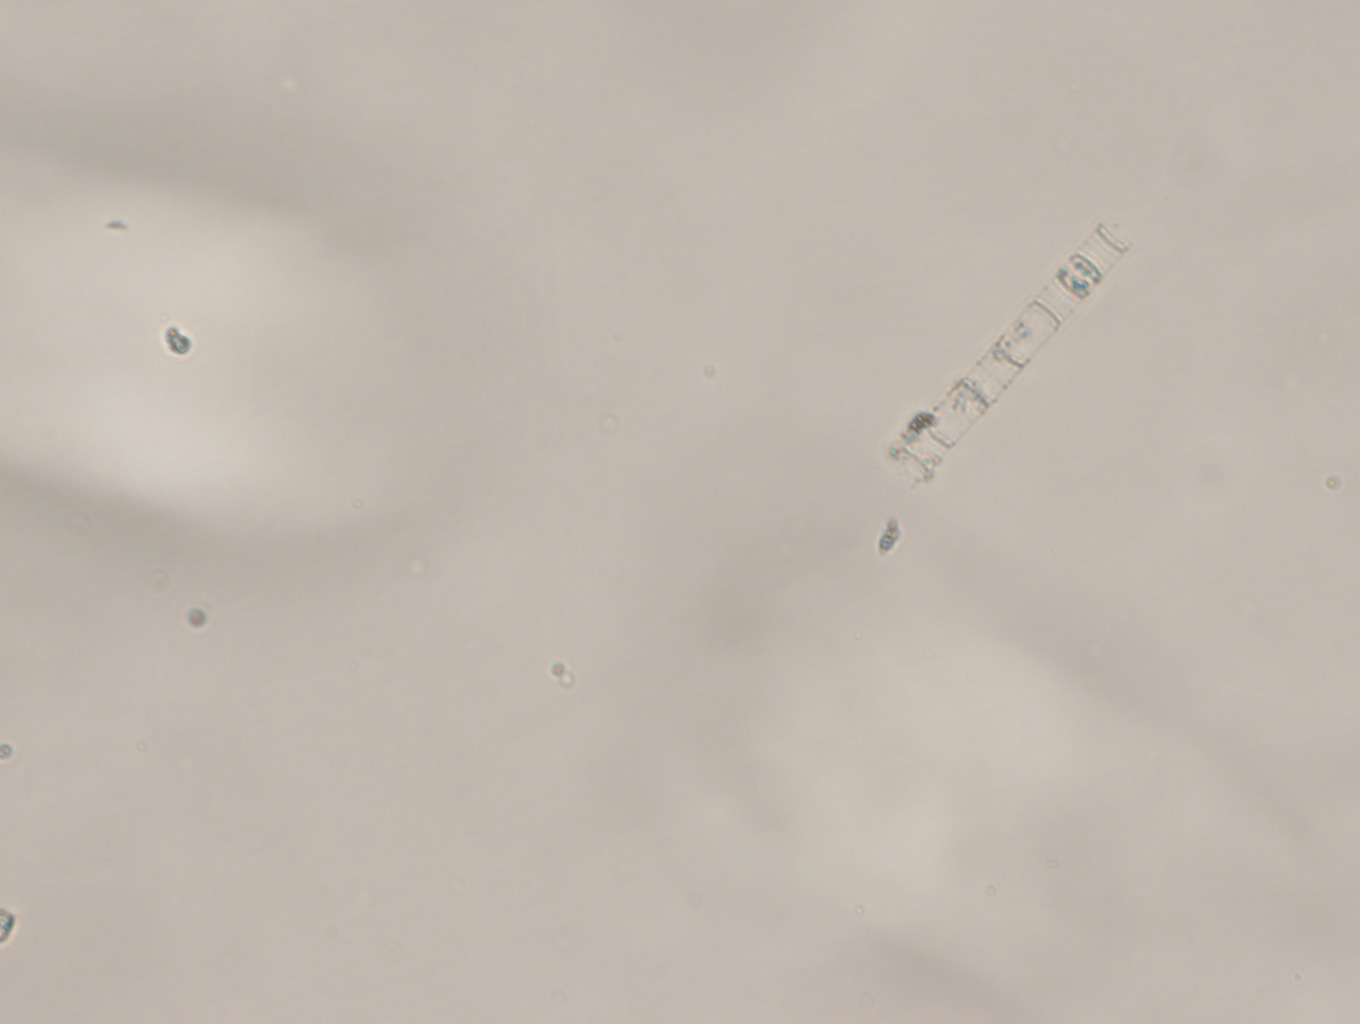skeletonema: (875, 209, 1156, 492)
